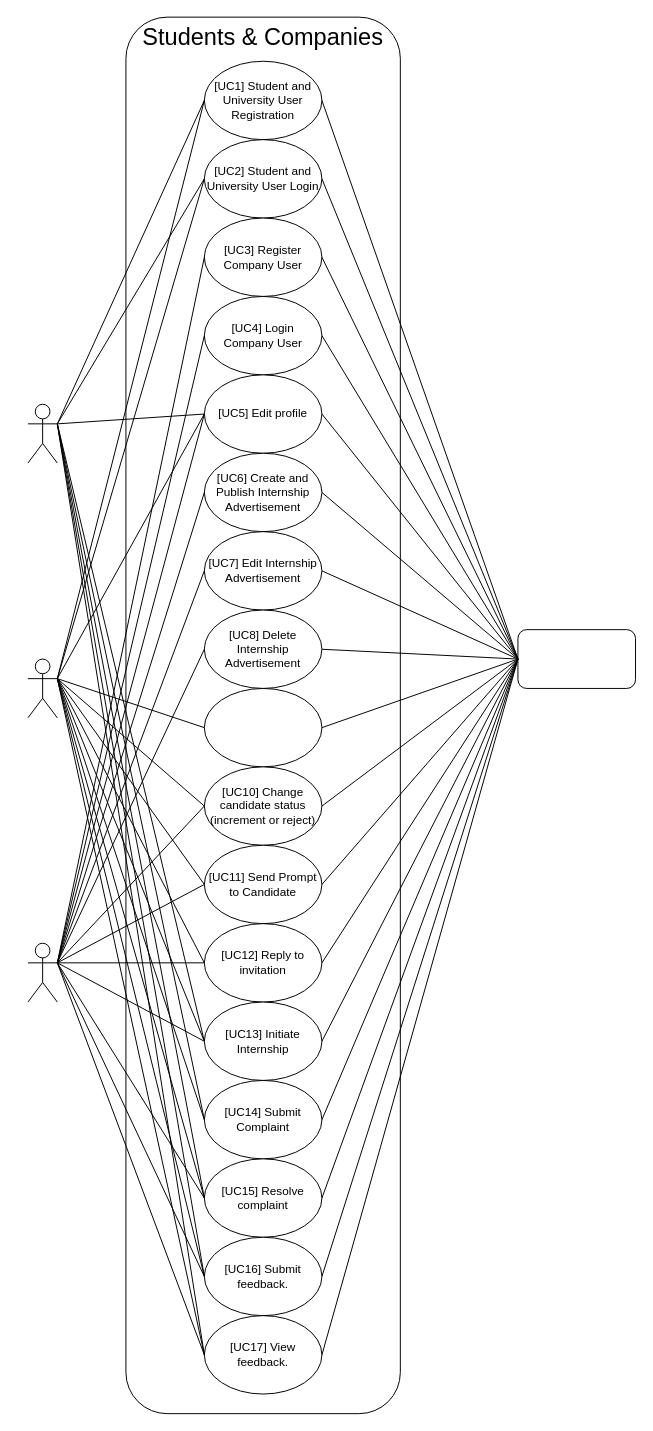
The diagram is 653 pixels wide and 1431 high, and some of its shapes have lost their labels. The shapes that lost their labels are listed below. From the top down, each one's centre as x and y in pixels, then its label:
pixel 42 433: University
pixel 576 658: «actor» AWS Database
pixel 42 688: Student
pixel 262 727: [UC9] View Recommendations & Offerings, Apply for Internship
pixel 42 972: Company
